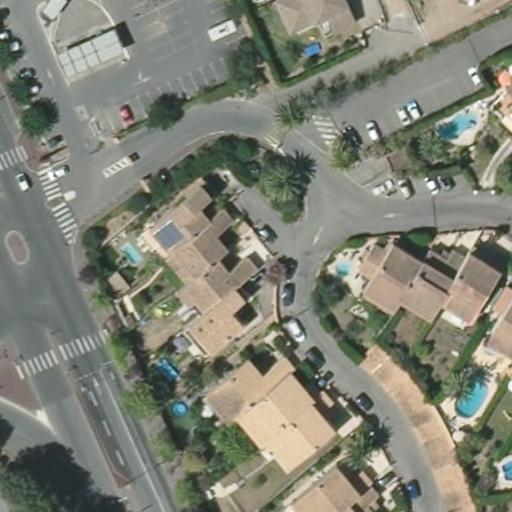pool: (454, 374, 487, 420), (437, 108, 477, 142), (150, 354, 180, 387), (119, 239, 146, 266), (329, 253, 356, 279), (498, 453, 511, 486), (168, 397, 187, 414)
